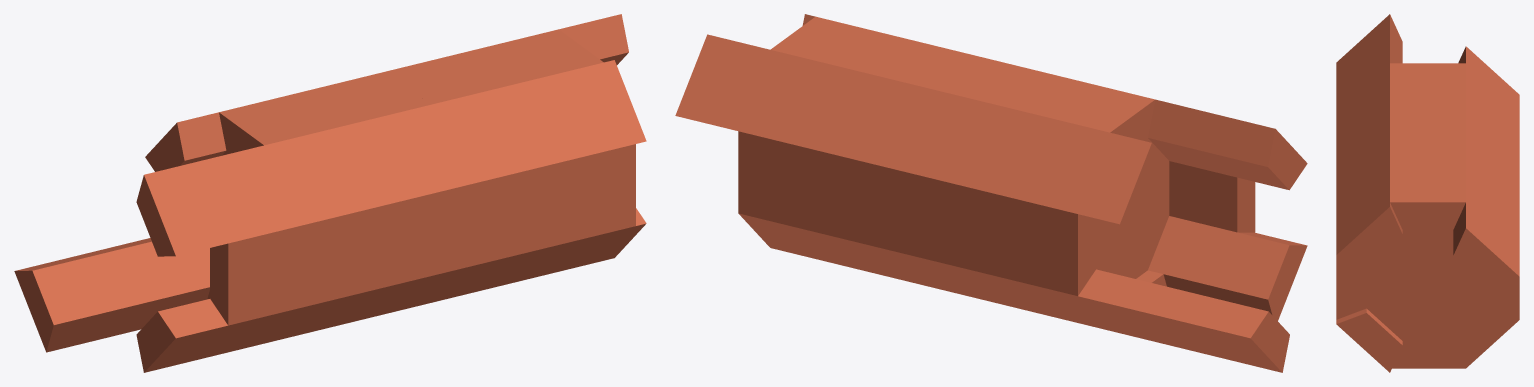
The model's file is log.fbx.
The picture shows the model from 3 angles, left to right: view 1: azimuth 30°, elevation 25°; view 2: azimuth 150°, elevation 25°; view 3: azimuth 270°, elevation 25°; orthographic projection. The views are drawn at different scales.
Visible parts, largest first — view 1: mergedBlocks; view 2: mergedBlocks; view 3: mergedBlocks.
Boxes of the visible parts, left/top/right/bottom form: mergedBlocks: left=14, top=14, right=646, bottom=372; mergedBlocks: left=675, top=14, right=1307, bottom=372; mergedBlocks: left=1336, top=14, right=1519, bottom=372.
Bounding box in the file's own units: 11 × 3.62 × 3.62.
